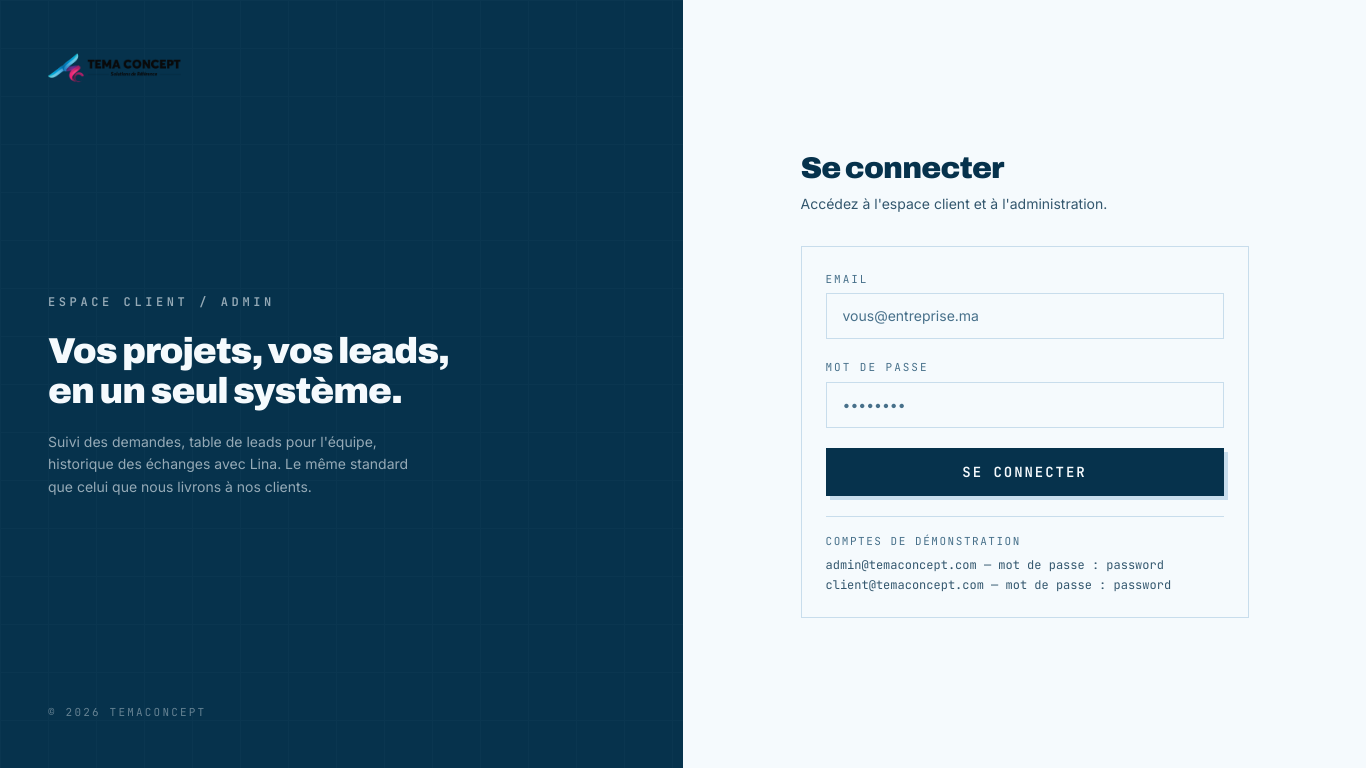
SignIn › shows an error message on invalid credentials
Type "nope@test.ma" into the field labelled "Email" at x=1024, y=316, box [826,293,1224,339]
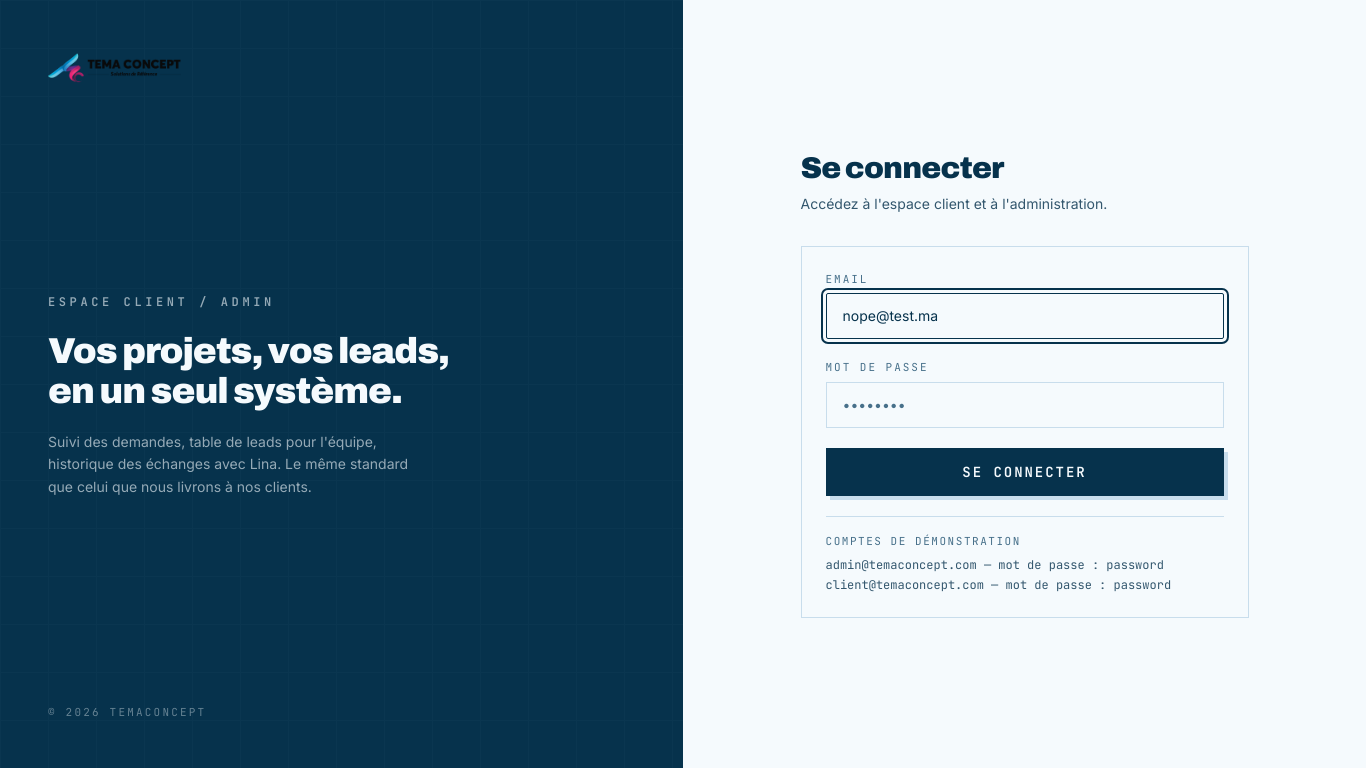
Type "wrong" into the password field labelled "Mot de passe" at x=1024, y=405, box [826,382,1224,428]
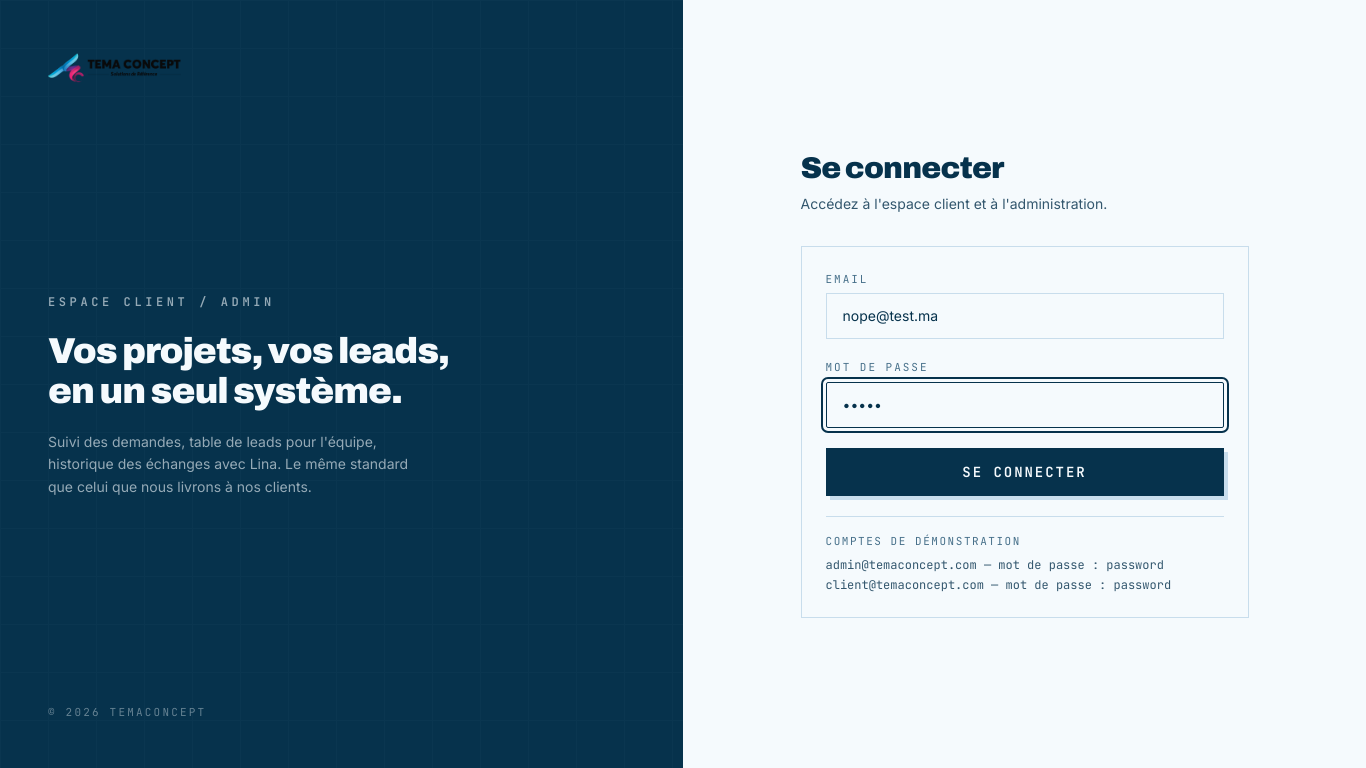
Click the button "Se connecter" at x=1024, y=472, box [826,448,1224,496]
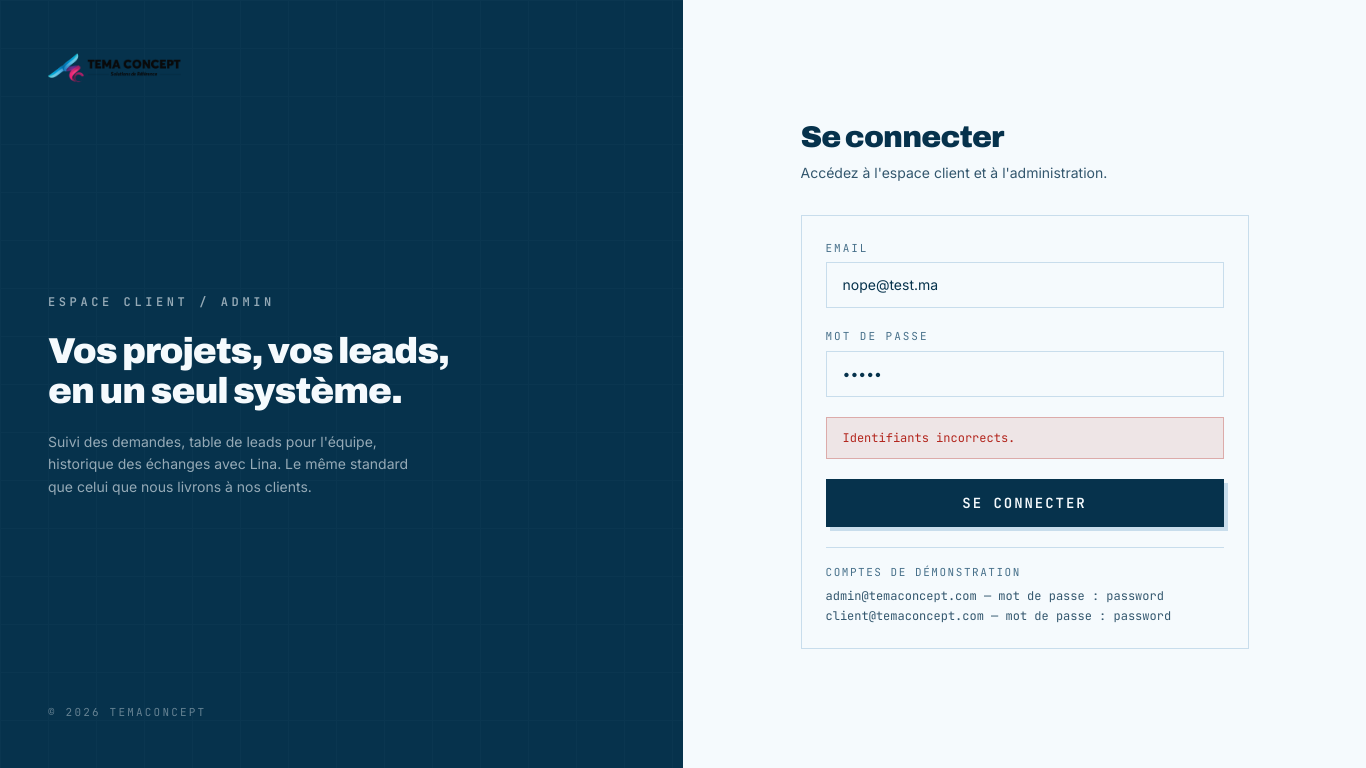
Expected: the message reads "Identifiants incorrects.", [842,430,1015,446]
